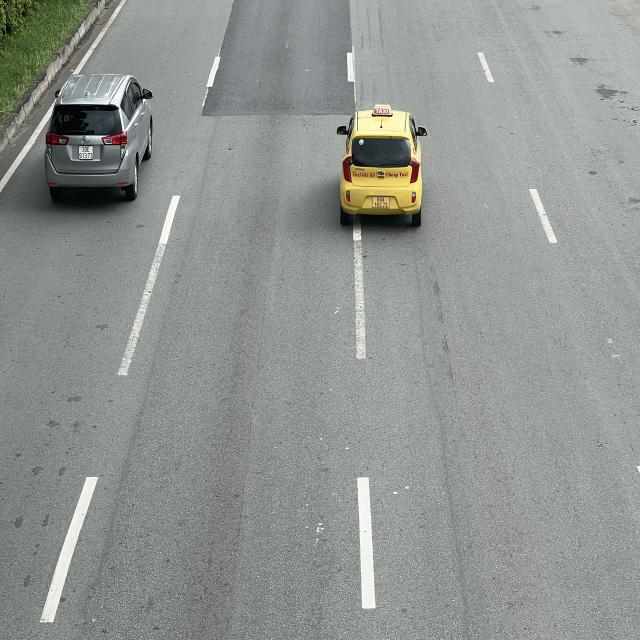car: (44, 72, 153, 198), (336, 106, 429, 226)
